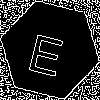E: (25, 25, 69, 77)
